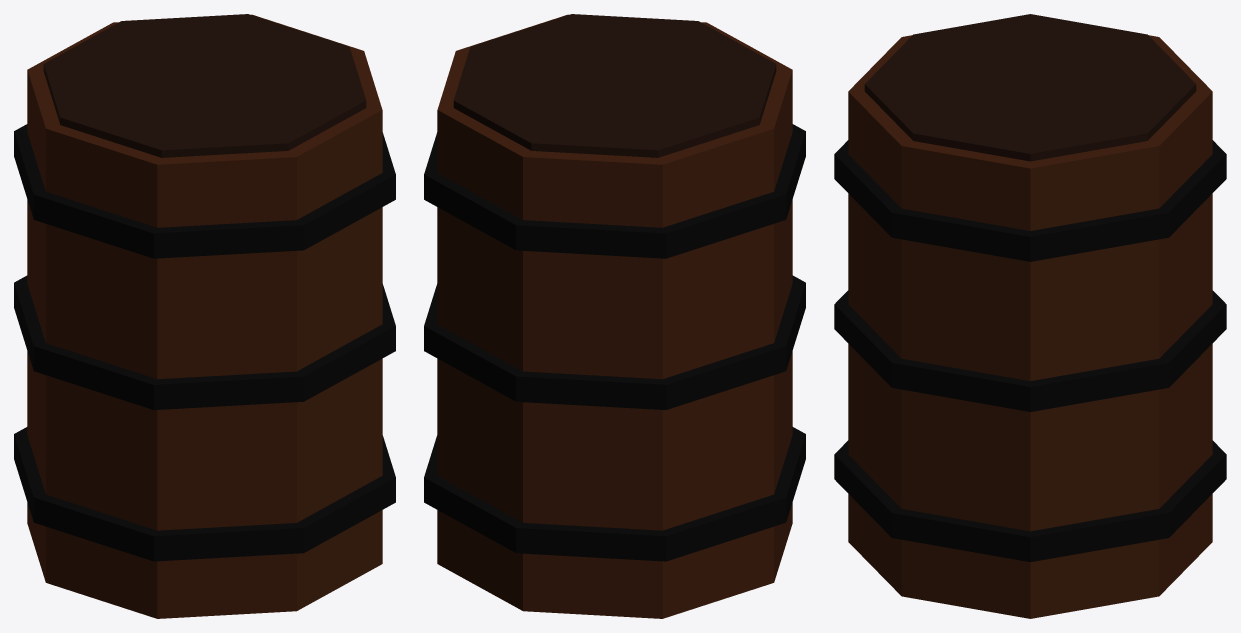
The model's file is SM_Hide_Barrel.glb.
3 renders of one model, left to right at view 1: azimuth 30°, elevation 25°; view 2: azimuth 150°, elevation 25°; view 3: azimuth 270°, elevation 25°, orthographic.
Visible parts, largest first — view 1: SM_Hide_Barrel-col; view 2: SM_Hide_Barrel-col; view 3: SM_Hide_Barrel-col.
Part boxes in pixels (bbox=[...]): SM_Hide_Barrel-col: bbox=[14, 14, 395, 618]; SM_Hide_Barrel-col: bbox=[424, 14, 805, 618]; SM_Hide_Barrel-col: bbox=[834, 14, 1226, 618].
Size of the model in its own units: 0.71 by 0.915 by 0.71.
